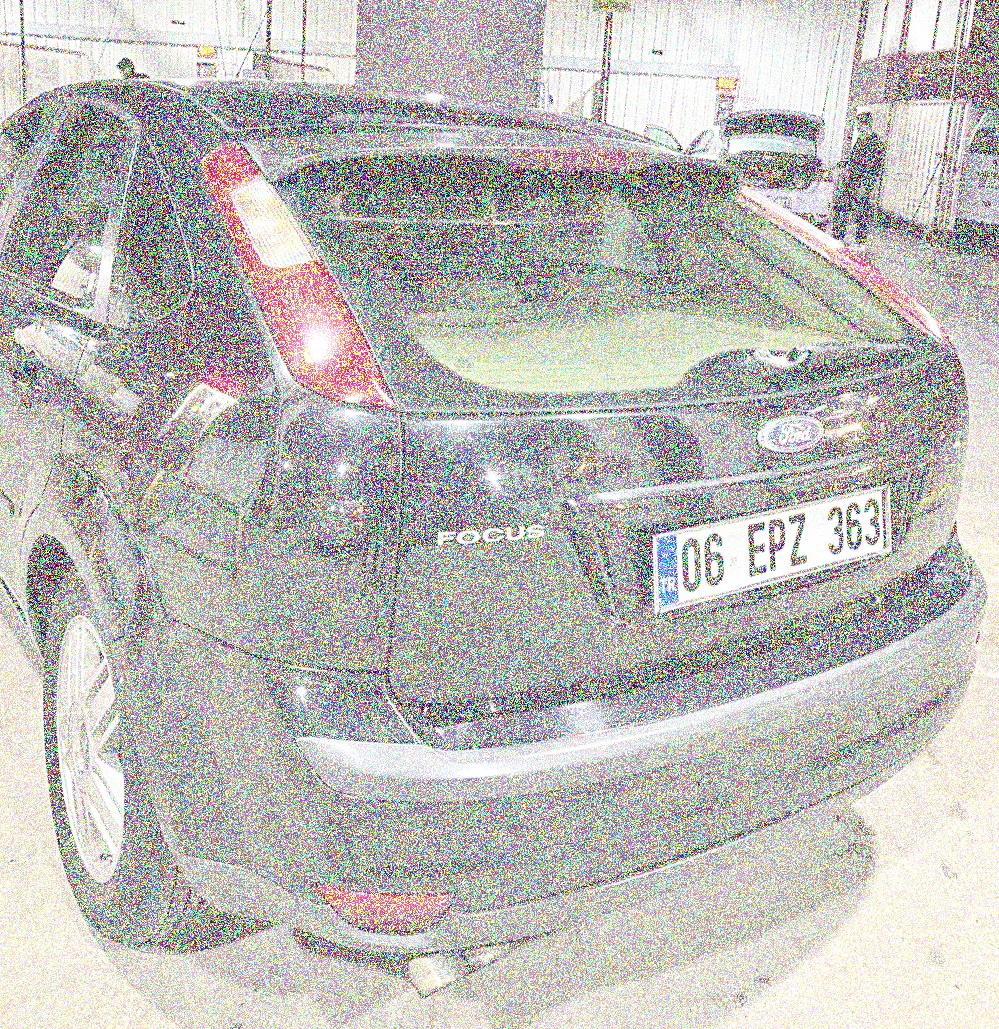plaka: (676, 493, 895, 589)
